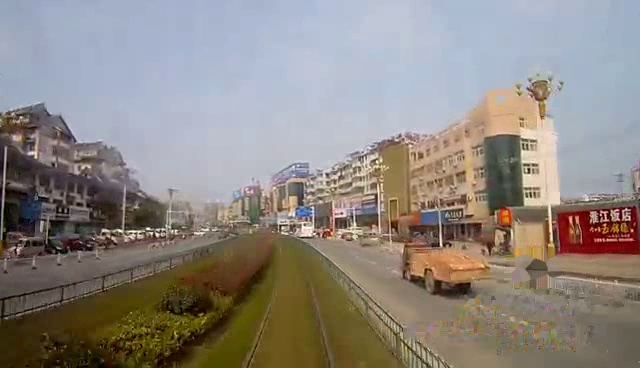car: (398, 237, 490, 292)
